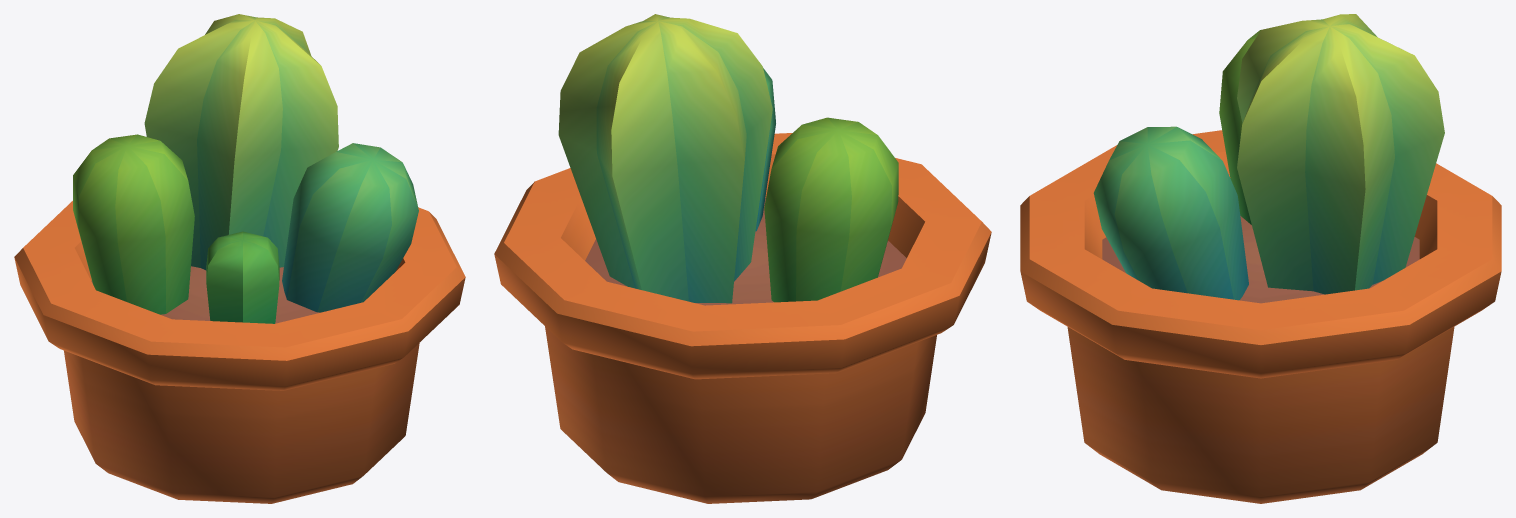
File: cactus_medium_b.glb
The picture shows the model from 3 angles, left to right: view 1: azimuth 30°, elevation 25°; view 2: azimuth 150°, elevation 25°; view 3: azimuth 270°, elevation 25°; orthographic projection. The views are drawn at different scales.
Parts seen in each view (by area): view 1: cactus_medium_B; view 2: cactus_medium_B; view 3: cactus_medium_B.
Boxes of the visible parts, x1,y1,x2,y2 form: cactus_medium_B: (14,14,465,503); cactus_medium_B: (494,14,991,503); cactus_medium_B: (1020,14,1501,503).
Bounding box in the file's own units: 0.8799 × 0.8273 × 0.8368.
1 material, 1 textured.
